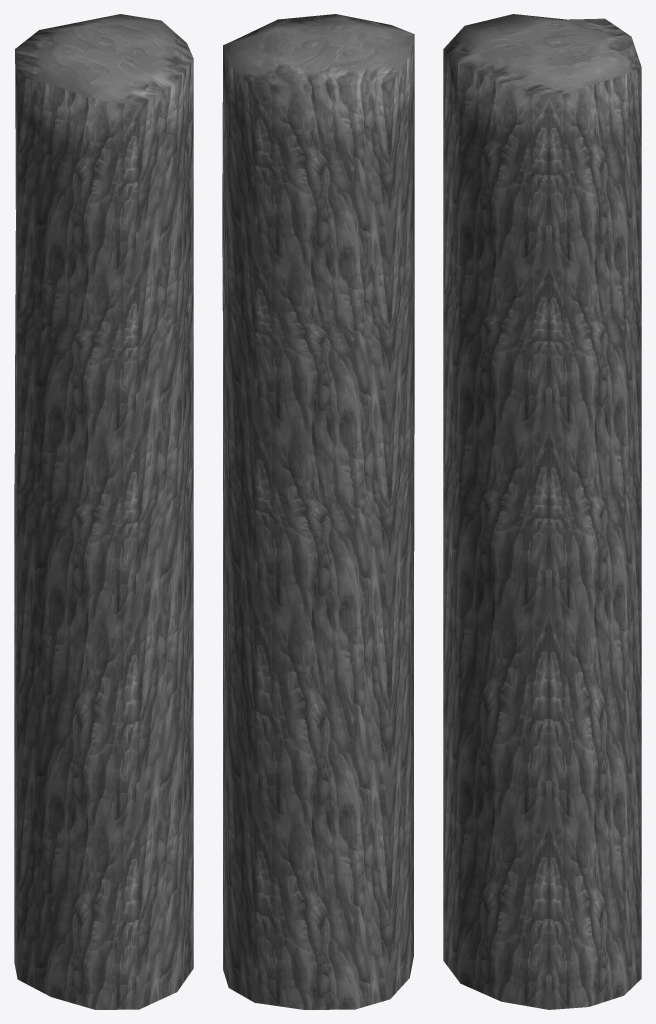
Rendered from SWORDLIGHT20_PS-AREA01 PLATFORM03.fbx.
3 renders of one model, left to right at view 1: azimuth 30°, elevation 25°; view 2: azimuth 150°, elevation 25°; view 3: azimuth 270°, elevation 25°, orthographic.
Parts seen in each view (by area): view 1: SWORDLIGHT20_PS-AREA01 PLATFORM03; view 2: SWORDLIGHT20_PS-AREA01 PLATFORM03; view 3: SWORDLIGHT20_PS-AREA01 PLATFORM03.
Boxes of the visible parts, x1,y1,x2,y2 form: SWORDLIGHT20_PS-AREA01 PLATFORM03: (14,14,193,1009); SWORDLIGHT20_PS-AREA01 PLATFORM03: (222,14,414,1009); SWORDLIGHT20_PS-AREA01 PLATFORM03: (443,14,641,1009).
Size of the model in its own units: 39983 by 219239 by 42418.
Materials: 2 (2 with a texture image).
